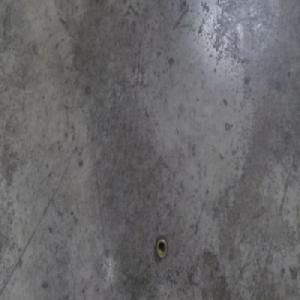Nut: (155, 234, 167, 260)
